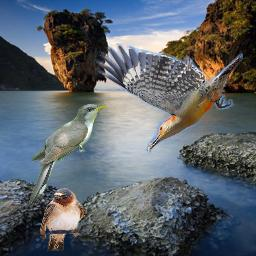Cuckoo: (29, 104, 106, 204)
Swallow: (40, 188, 85, 251)
Woodpecker: (95, 43, 243, 153)
